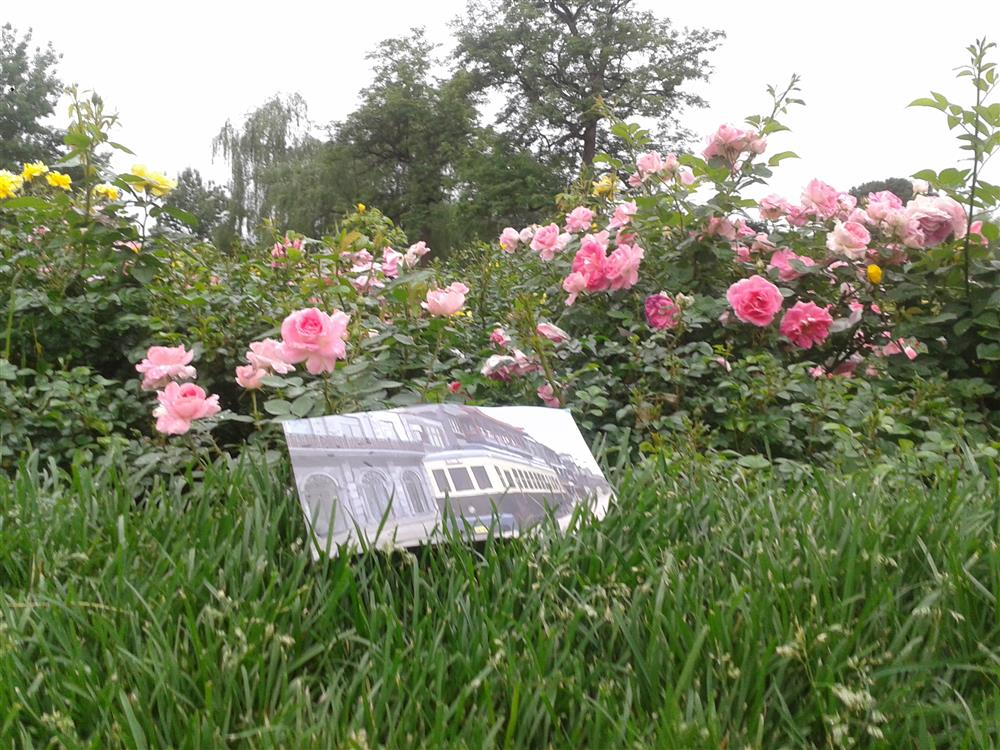postcard: (271, 381, 630, 573)
